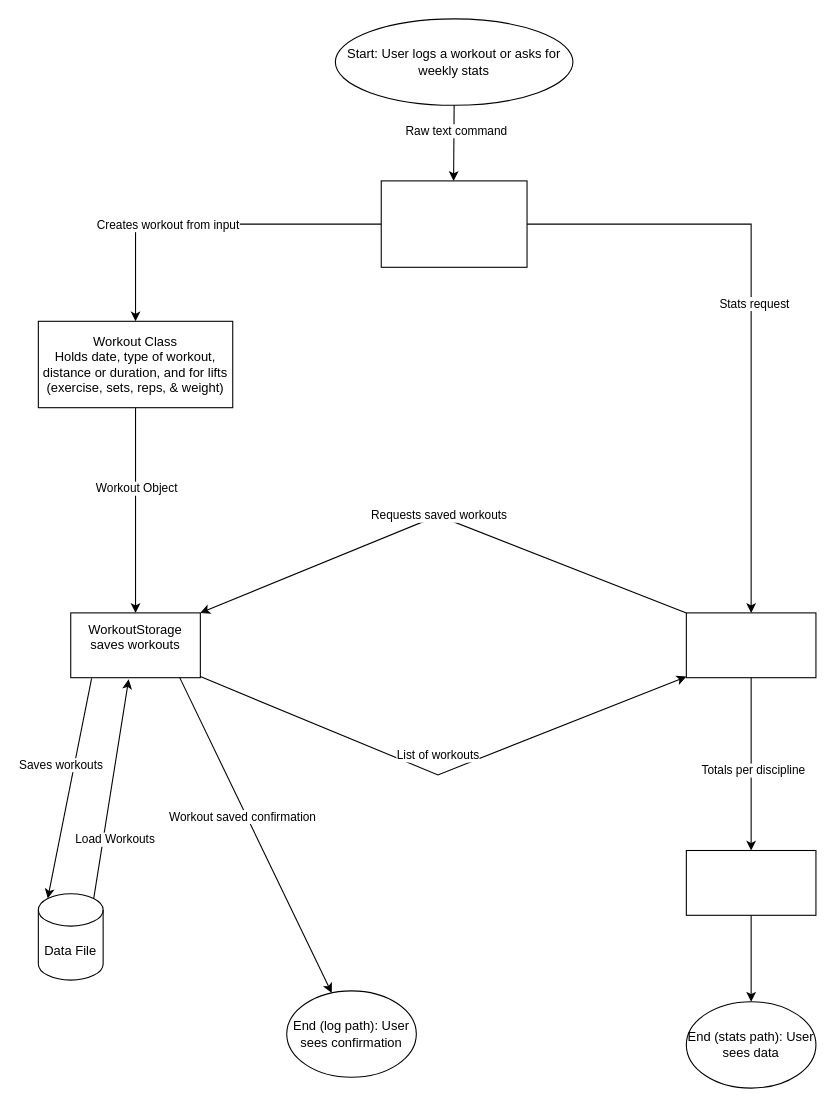
Some shapes in this 835 by 1107 pixel diagram are drawn without their labels. Each missing label, with the box of its shape:
(Main) CLI reads input and picks which action to run: (380, 180, 527, 267)
Main prints summary of stats: (685, 849, 816, 915)
StatsCalculator weekly stats: (685, 612, 816, 678)
